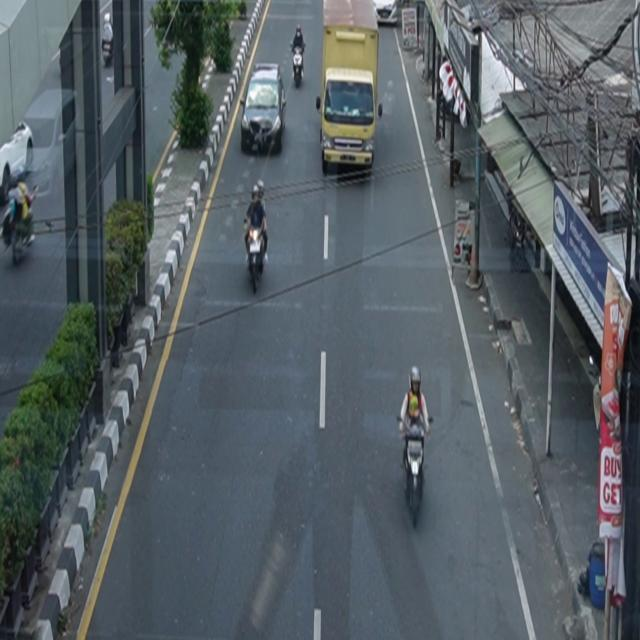bus: (317, 1, 383, 175)
car: (241, 63, 287, 155)
